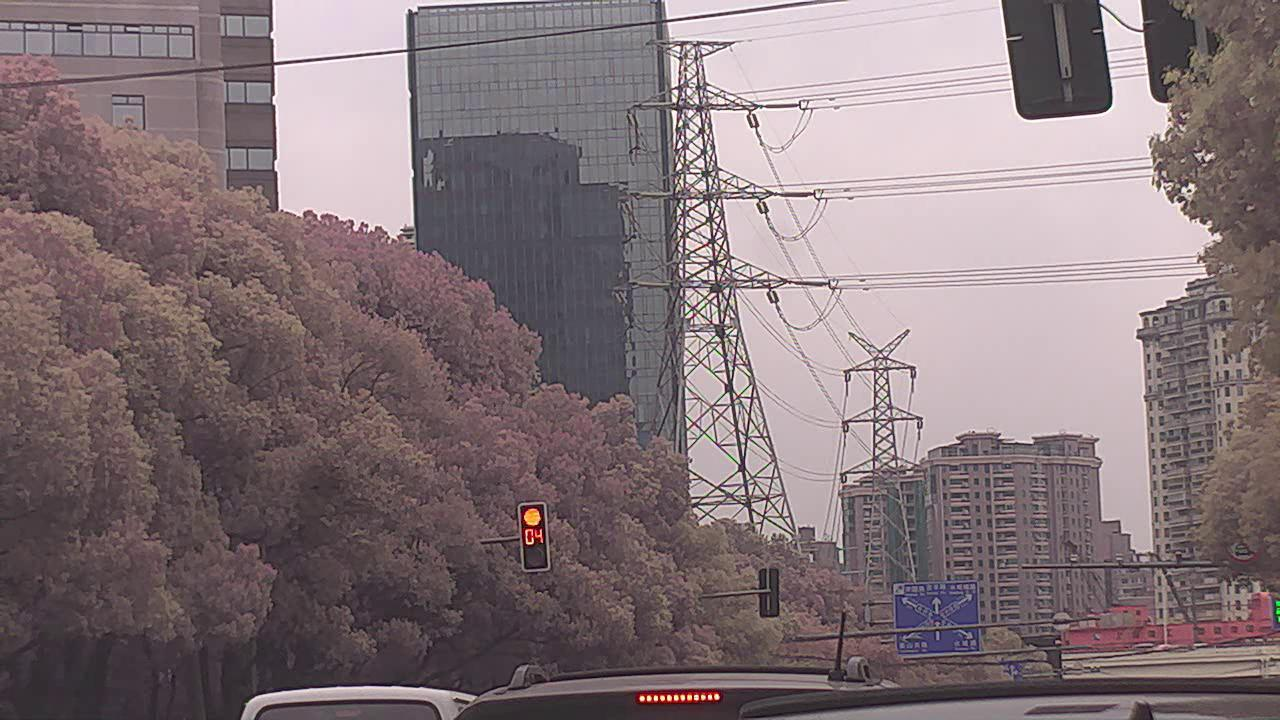traffic_light: (517, 501, 552, 572)
